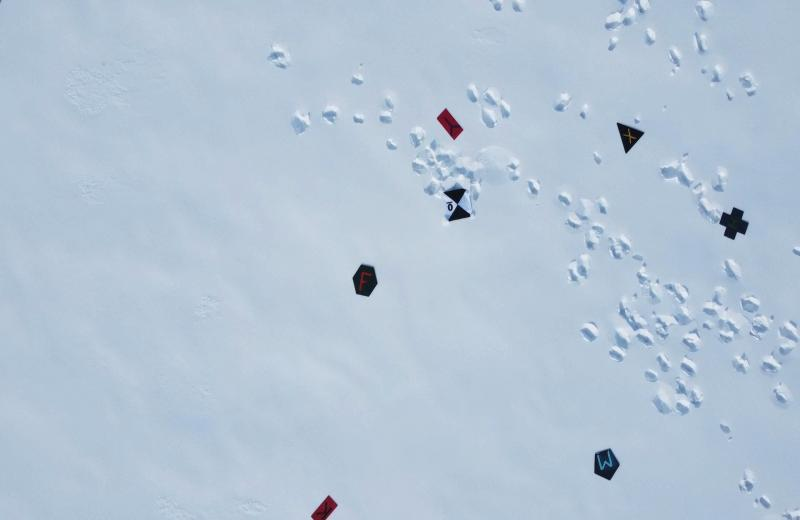Cross: (717, 202, 754, 239)
Hexagon: (349, 256, 379, 300)
Pentagon: (590, 443, 624, 486)
Rectangle: (432, 100, 467, 142), (302, 487, 345, 520)
Triangle: (610, 122, 646, 158)
